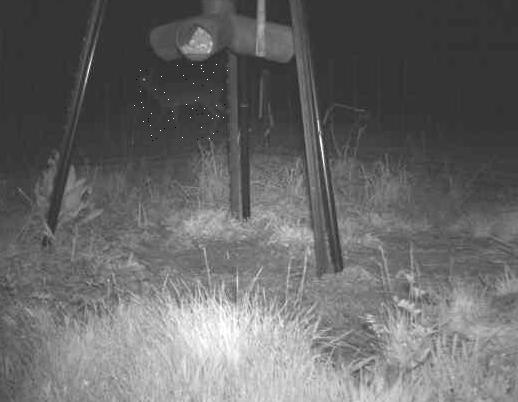Deer: (134, 63, 230, 141)
